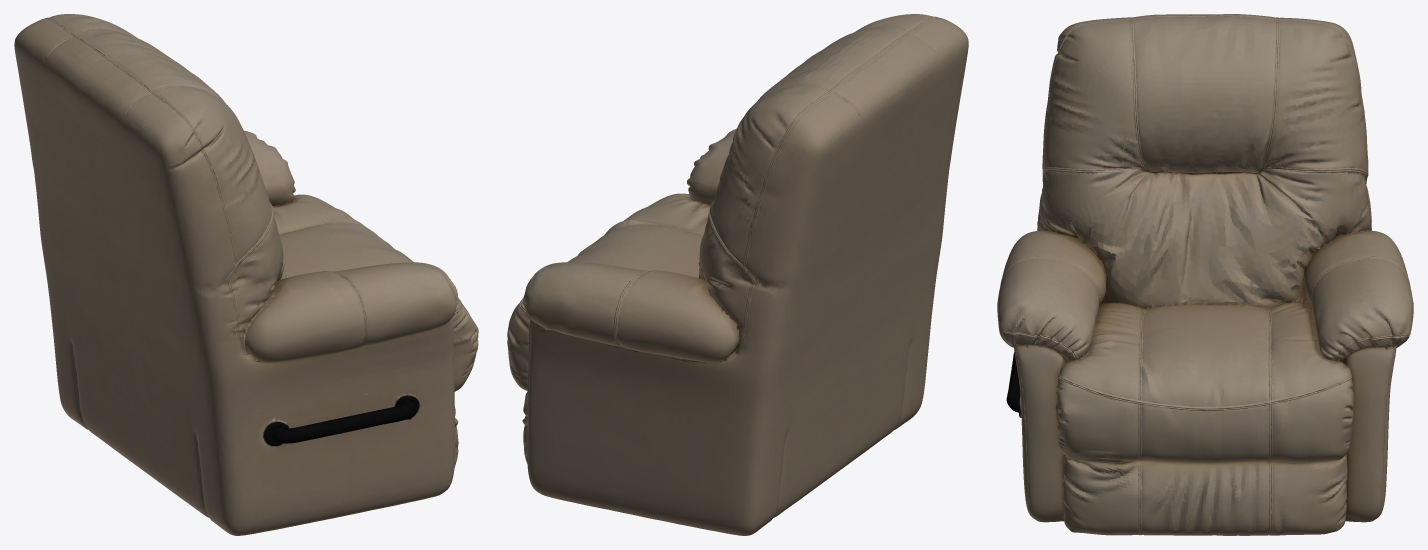
Rendered from scan2.glb.
3 views of the same model, side by side, from view 1: azimuth 30°, elevation 25°; view 2: azimuth 150°, elevation 25°; view 3: azimuth 270°, elevation 25° (orthographic). The views are drawn at different scales.
Visible parts, largest first — view 1: tripo_node_eef0a740-124b-4d78-8812-cd1513885133; view 2: tripo_node_eef0a740-124b-4d78-8812-cd1513885133; view 3: tripo_node_eef0a740-124b-4d78-8812-cd1513885133.
Boxes of the visible parts, left/top/right/bottom form: tripo_node_eef0a740-124b-4d78-8812-cd1513885133: left=14, top=14, right=478, bottom=535; tripo_node_eef0a740-124b-4d78-8812-cd1513885133: left=507, top=14, right=968, bottom=535; tripo_node_eef0a740-124b-4d78-8812-cd1513885133: left=997, top=14, right=1413, bottom=535.
Bounding box in the file's own units: 0.7928 × 0.98 × 0.9243.
Materials: 1 (1 with a texture image).
